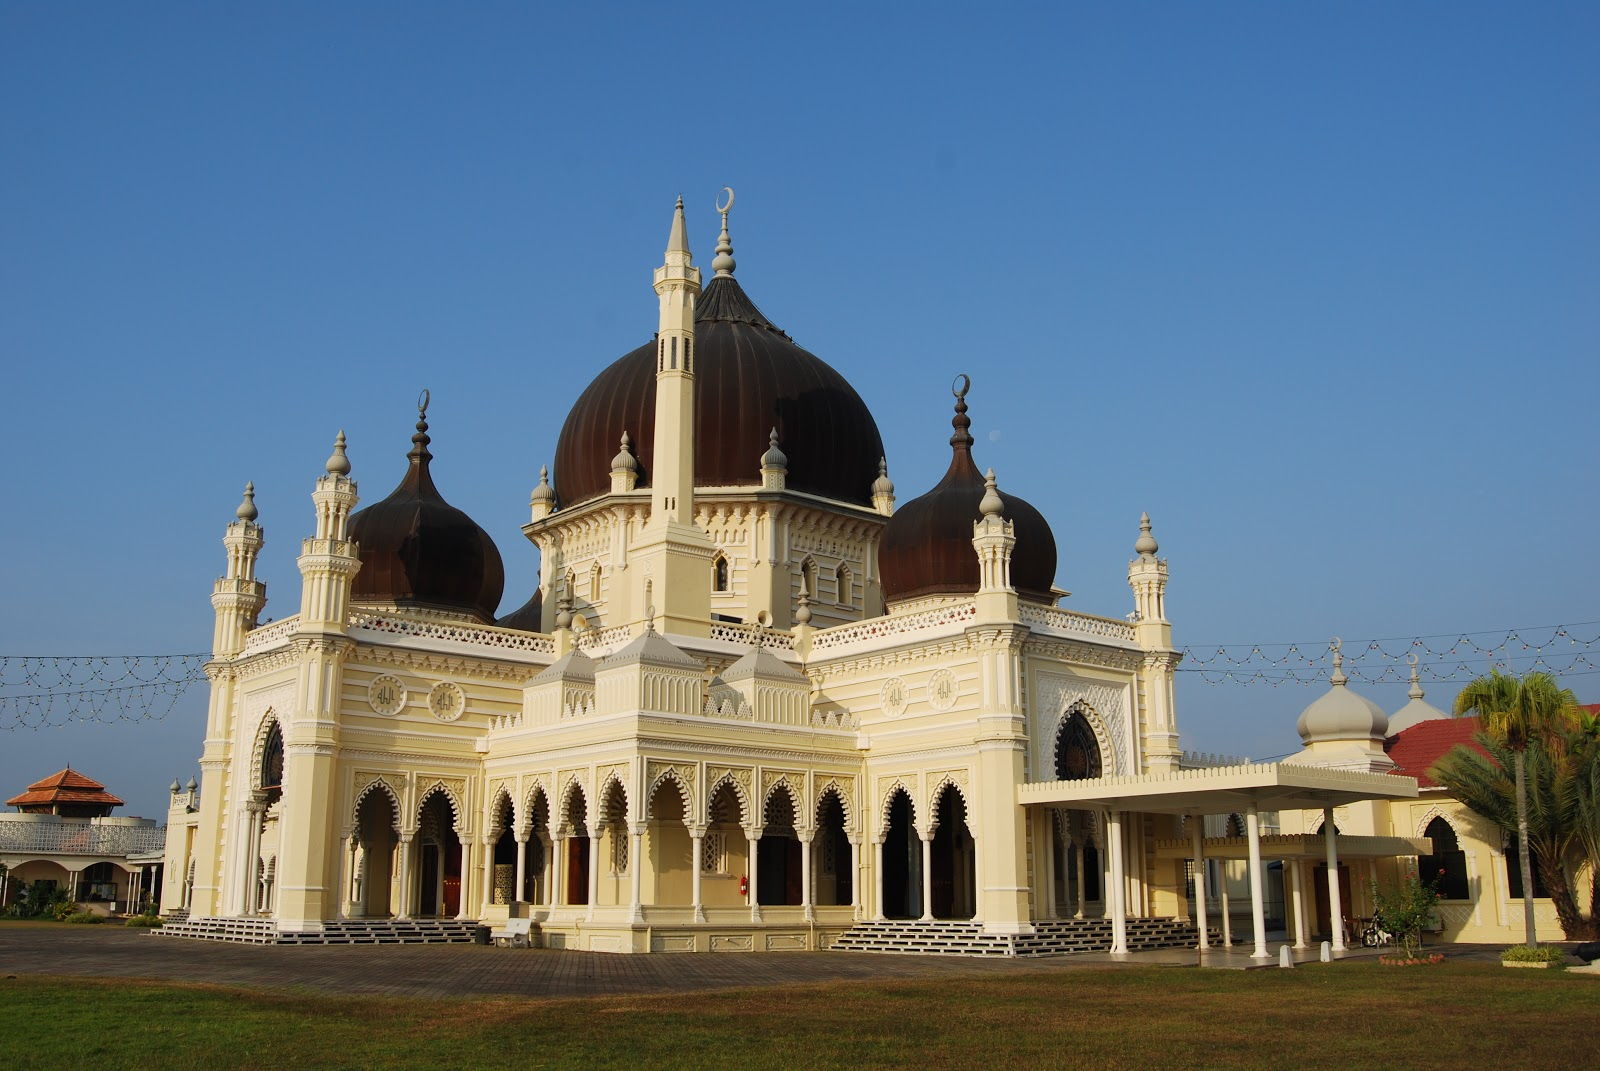Mosque: (216, 145, 1161, 940)
